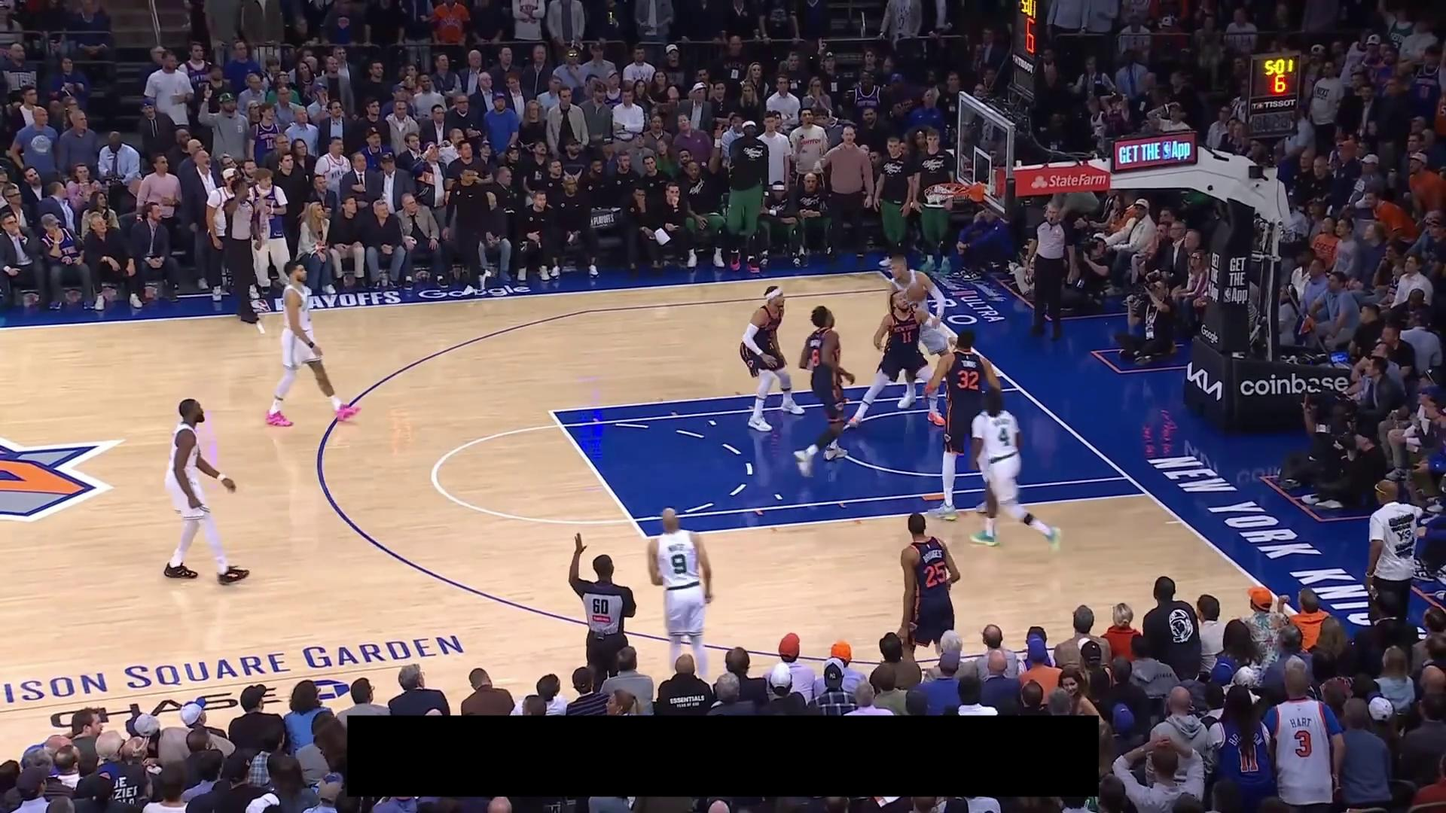ball: (907, 282, 927, 301)
number: (923, 562, 947, 588), (956, 369, 979, 390), (670, 553, 687, 575), (998, 427, 1011, 446), (811, 348, 820, 368), (901, 330, 913, 344)
player: (162, 397, 252, 586), (264, 258, 363, 428), (967, 385, 1063, 555), (923, 326, 1005, 524), (847, 288, 947, 431), (644, 502, 718, 681), (793, 303, 858, 480), (894, 510, 965, 664), (737, 285, 807, 434), (888, 252, 952, 409)
referee: (568, 530, 637, 695), (1024, 199, 1078, 342), (217, 175, 264, 324)
rim: (923, 181, 970, 198)
